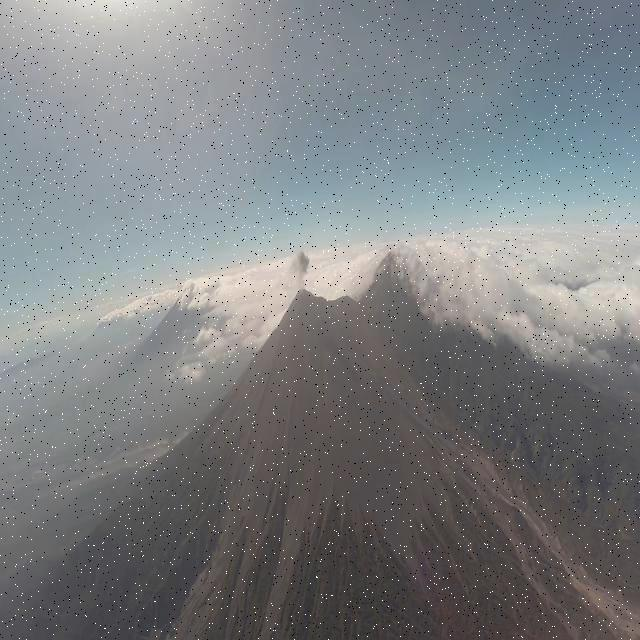Plume: (290, 250, 310, 284)
Summit: (287, 288, 327, 314)
